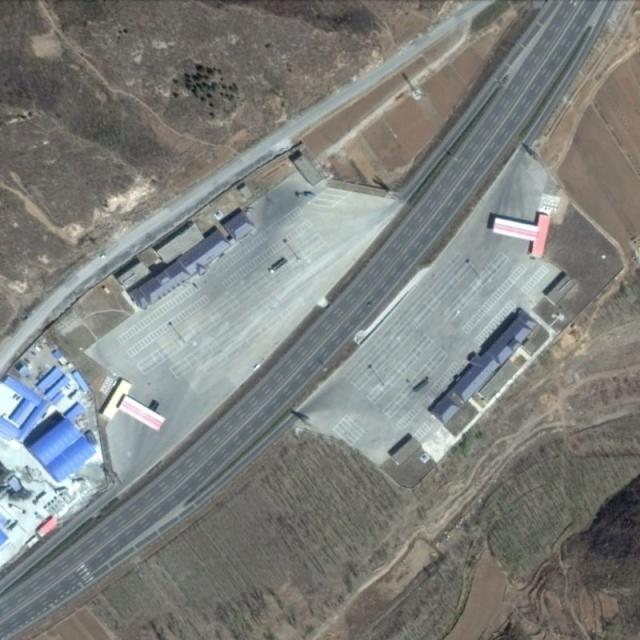vehicle: (269, 258, 287, 274), (413, 378, 430, 393), (34, 493, 48, 505), (10, 505, 26, 514), (50, 500, 62, 511), (48, 502, 58, 514), (296, 192, 315, 198), (44, 506, 55, 516), (54, 497, 64, 508), (34, 513, 46, 522)
